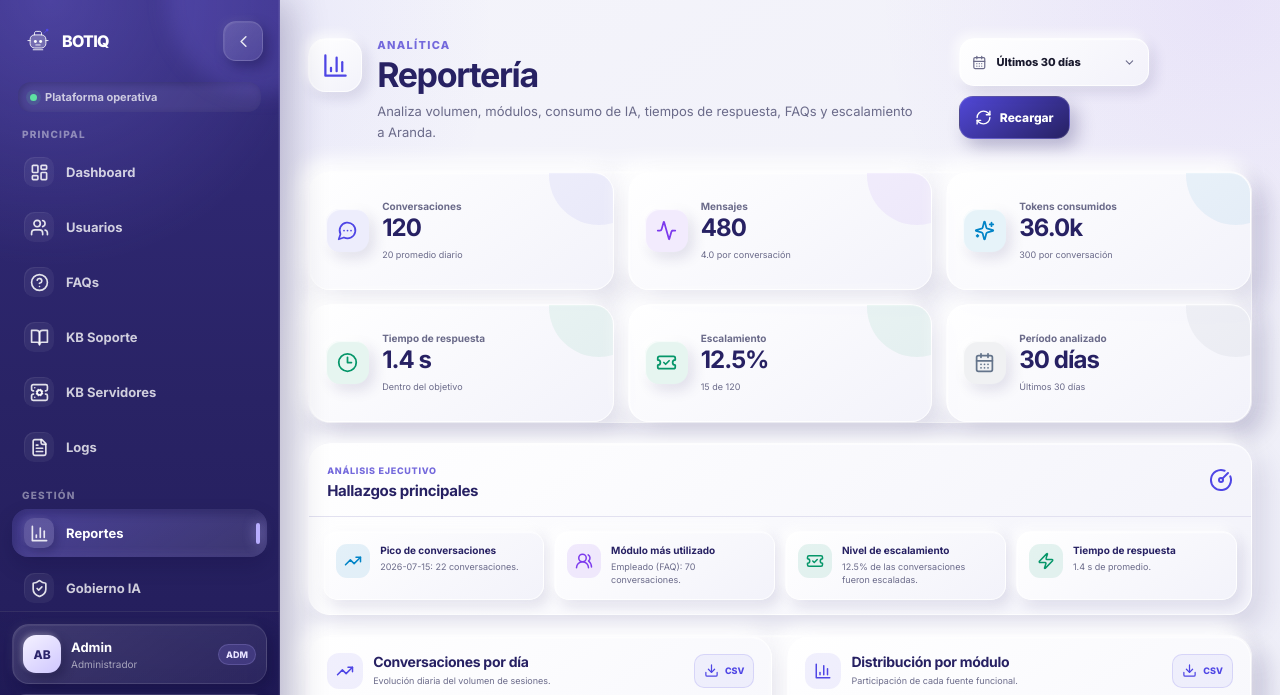
Test: ReportsPage profesional › actualiza automáticamente al cambiar el período
Select "Últimos 90 días" in the dropdown named "Período del reporte" at [1067, 62], box [994,40,1139,84]
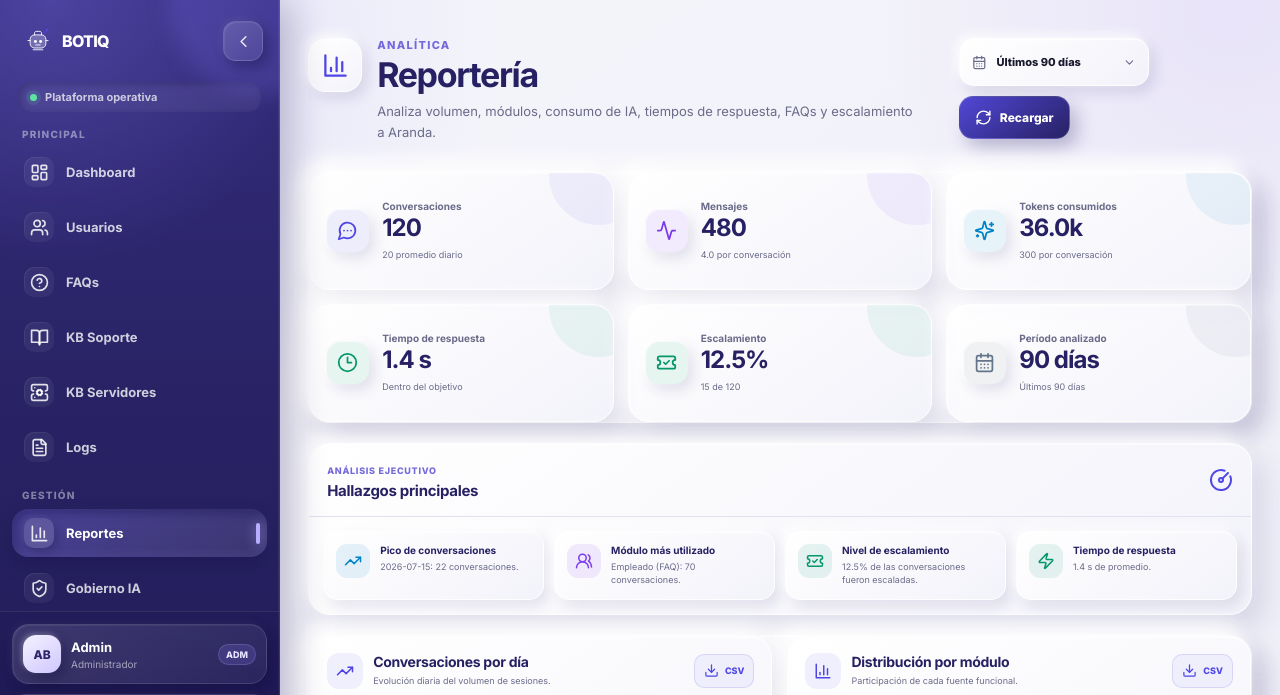
Now the text "90 días" is shown, box [1019,348,1107,372]
